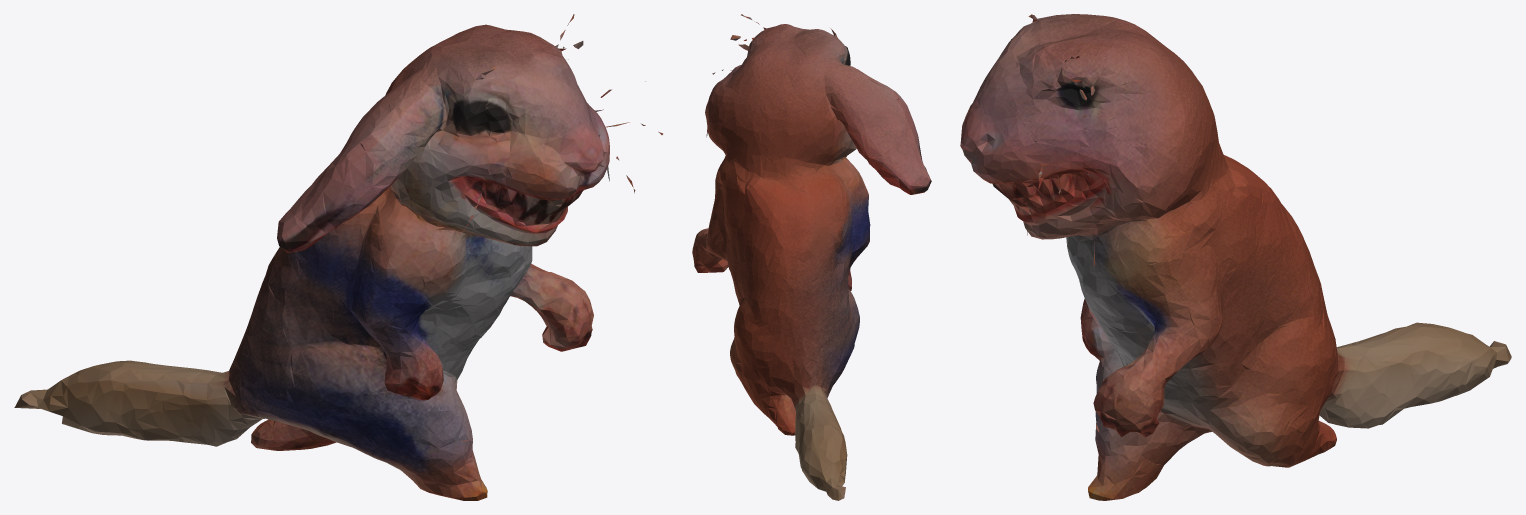
Rendered from rabbidd.glb.
3 views of the same model, side by side, from view 1: azimuth 30°, elevation 25°; view 2: azimuth 150°, elevation 25°; view 3: azimuth 270°, elevation 25° (orthographic). The views are drawn at different scales.
Visible parts, largest first — view 1: world; view 2: world; view 3: world.
Boxes of the visible parts, <box> form: world: <box>14,14,662,500</box>; world: <box>692,14,931,500</box>; world: <box>960,14,1511,500</box>.
Size of the model in its own units: 1.8 by 1.93 by 1.98.
Materials: 1 (1 with a texture image).
